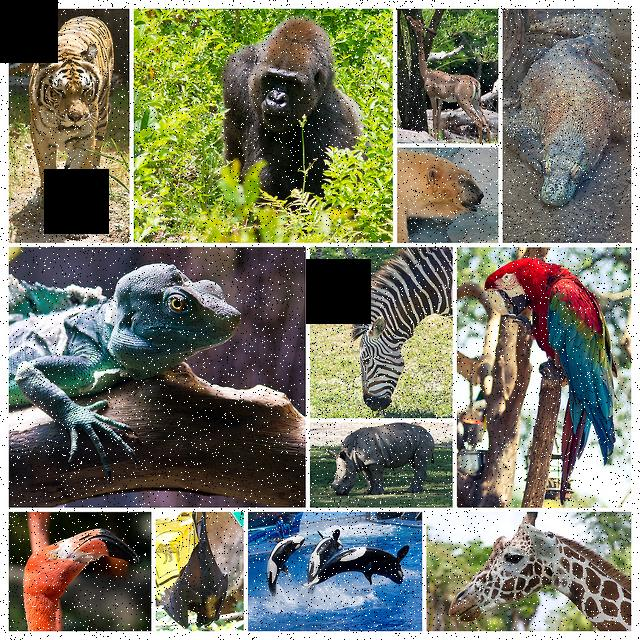Bear: (396, 146, 484, 235)
